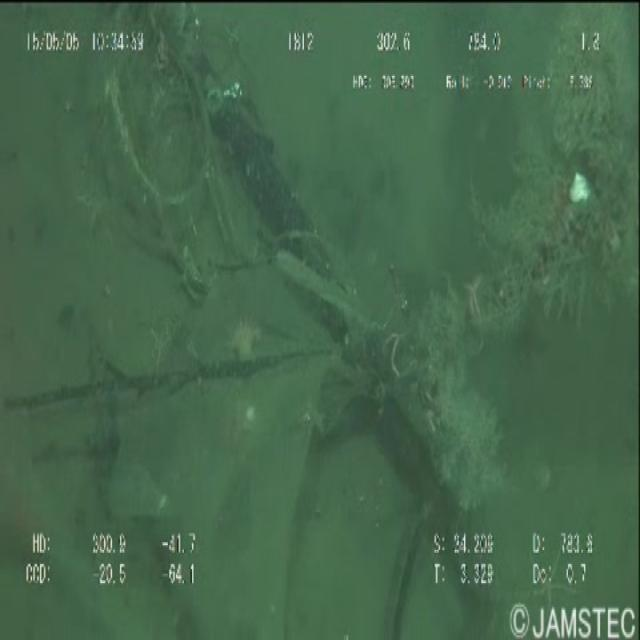Wood: (141, 59, 594, 640)
